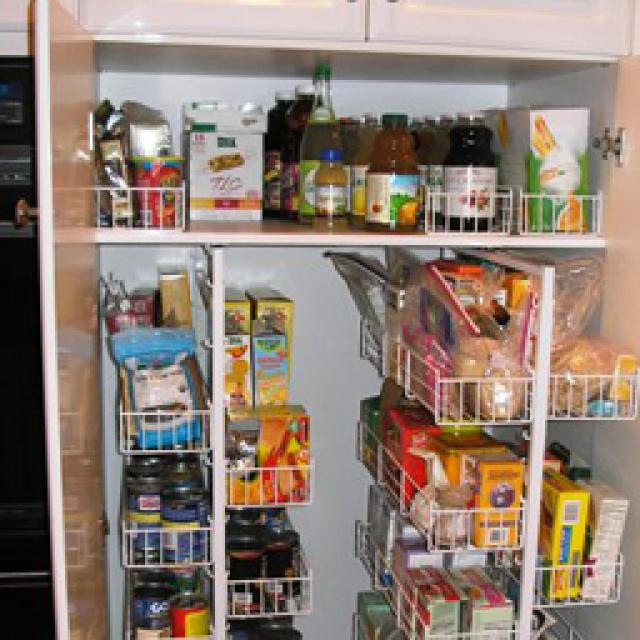bag occluded: (110, 325, 198, 450)
bottle crop: (362, 110, 418, 230), (440, 110, 492, 228), (312, 145, 345, 228)
bottle of wine: (298, 62, 335, 222)
box contants: (498, 102, 588, 228), (515, 460, 585, 595), (185, 128, 260, 218)
box of tea: (575, 475, 625, 598)
boxs: (358, 478, 510, 635), (208, 280, 305, 502)
door bars: (25, 0, 108, 638)
doors: (75, 0, 638, 52)
jars: (222, 505, 298, 608)
packs: (355, 378, 515, 545)
pantry door: (92, 40, 638, 638)
tins of tea: (122, 455, 208, 562)
